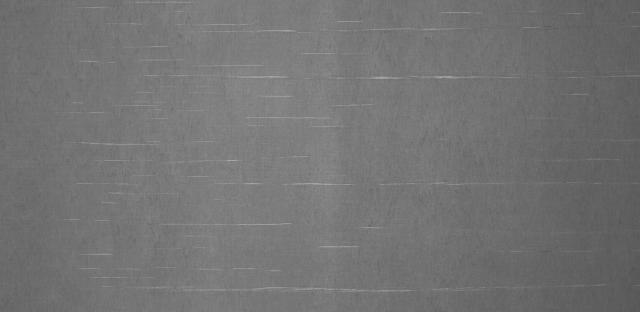waist_folding: (59, 13, 640, 289)
